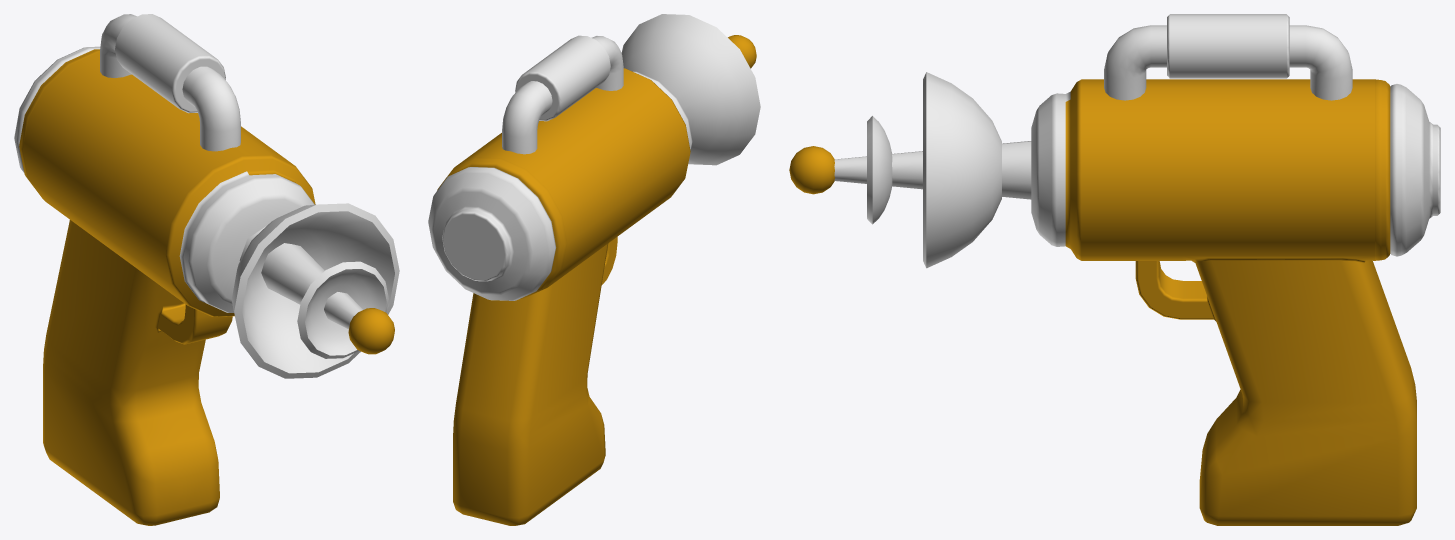
Rendered from small_laser_pistol.glb.
3 views of the same model, side by side, from view 1: azimuth 30°, elevation 25°; view 2: azimuth 150°, elevation 25°; view 3: azimuth 270°, elevation 25° (orthographic). The views are drawn at different scales.
Parts seen in each view (by area): view 1: GunMesh; view 2: GunMesh; view 3: GunMesh.
Part boxes in pixels (left/top/right/bottom): GunMesh: left=14, top=14, right=399, bottom=525; GunMesh: left=428, top=14, right=760, bottom=525; GunMesh: left=789, top=14, right=1440, bottom=525.
Bounding box in the file's own units: 0.0621 × 0.1724 × 0.2057.
